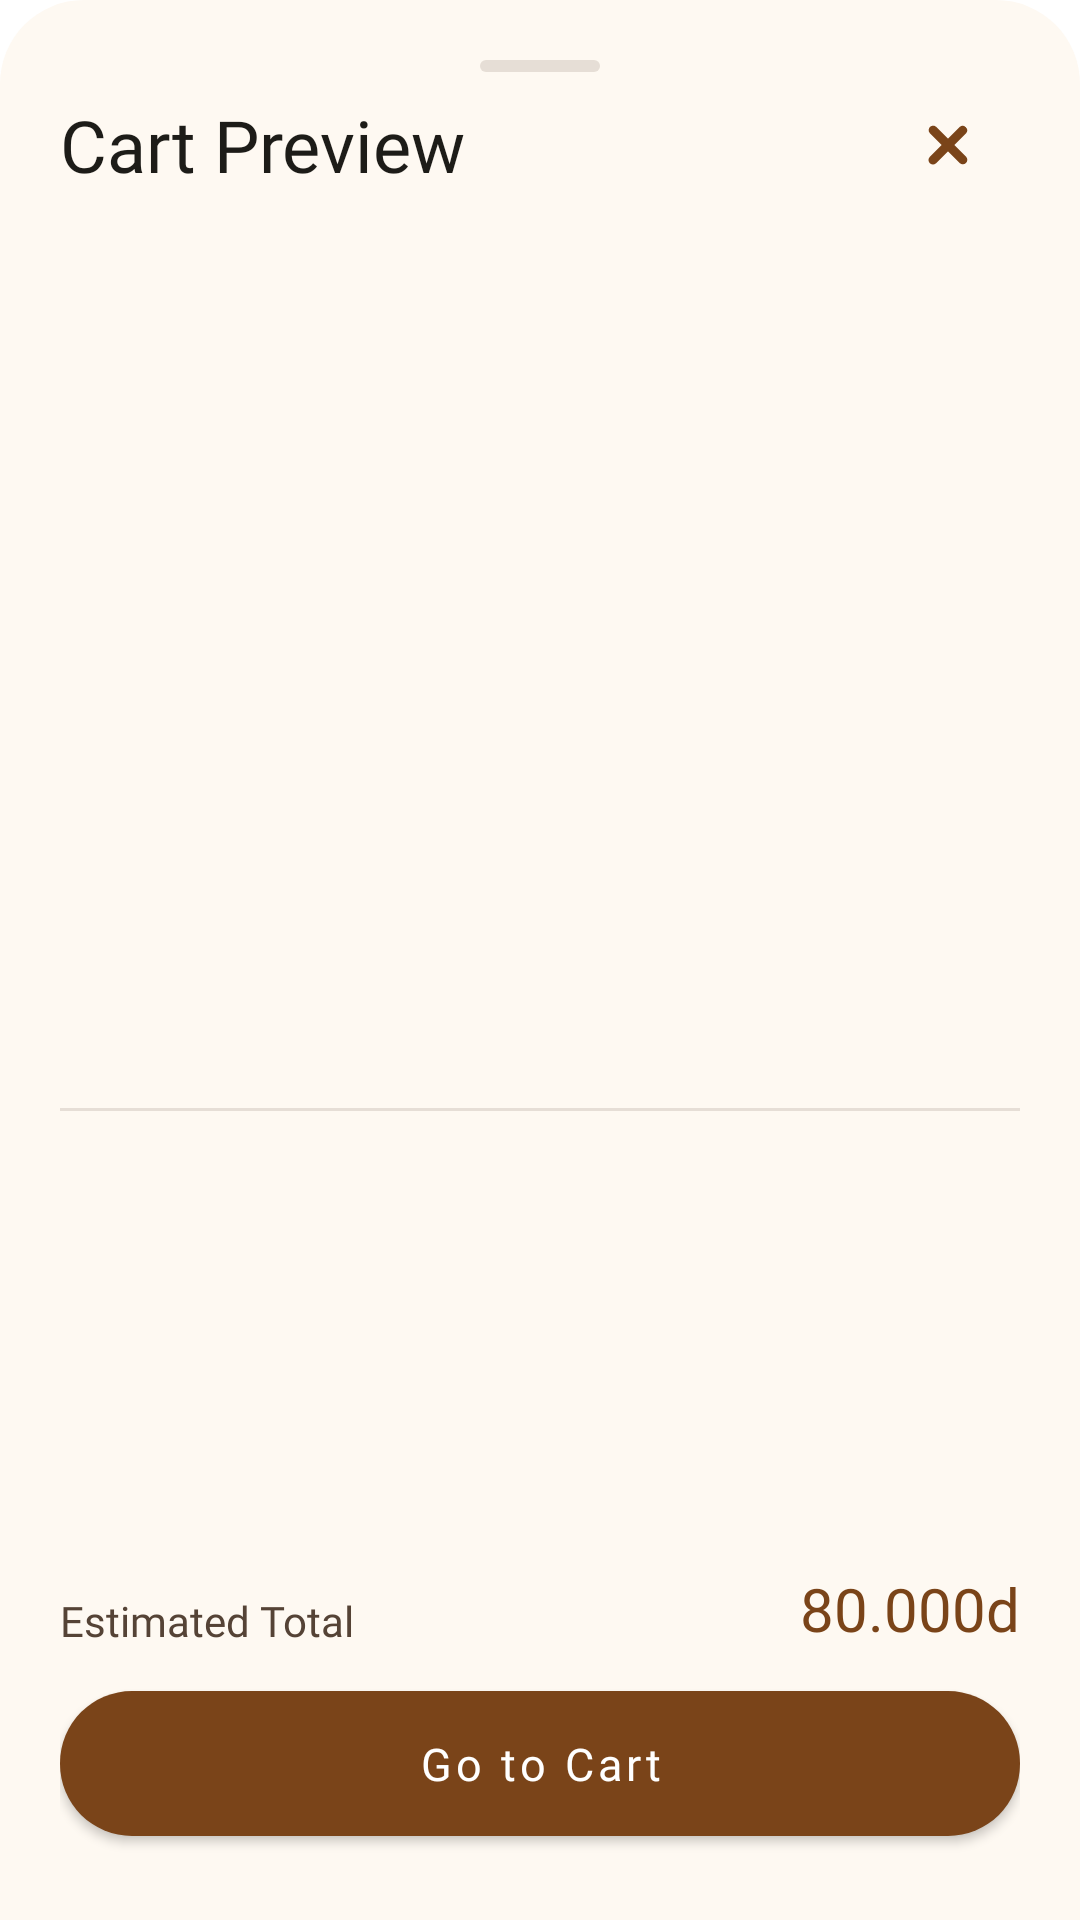

Screen size 1080 × 1920. Icon name, then its center in pixels as point (x, y):
cross: point (948, 145)
